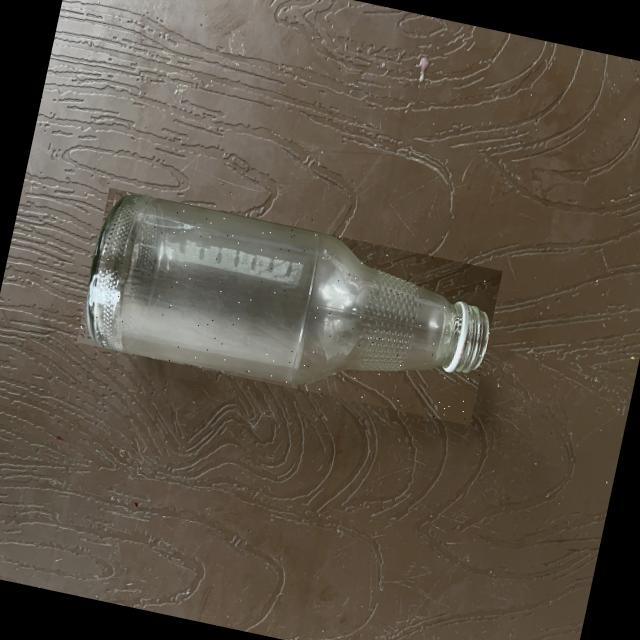Glass_Bottle: (87, 195, 488, 383)
